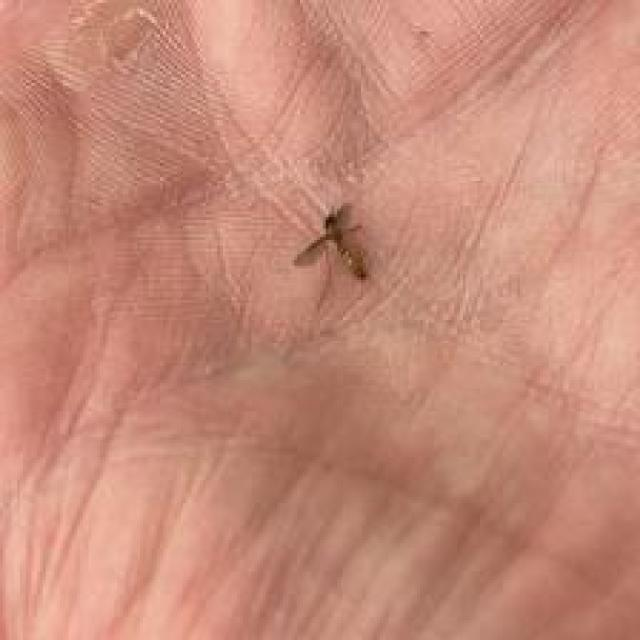Culex: (293, 202, 370, 282)
